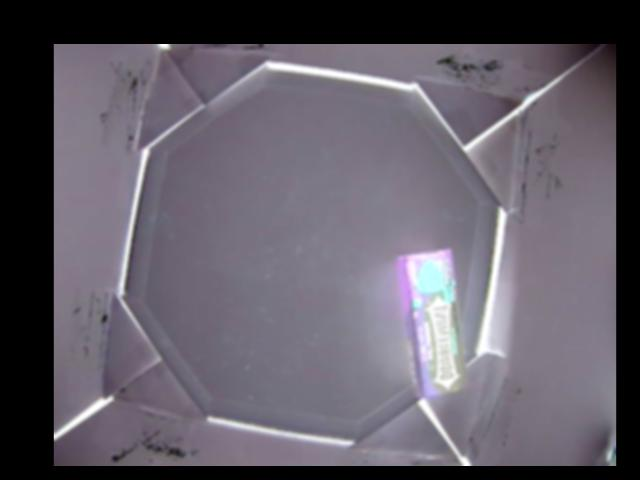Bottle: (399, 246, 465, 402)
